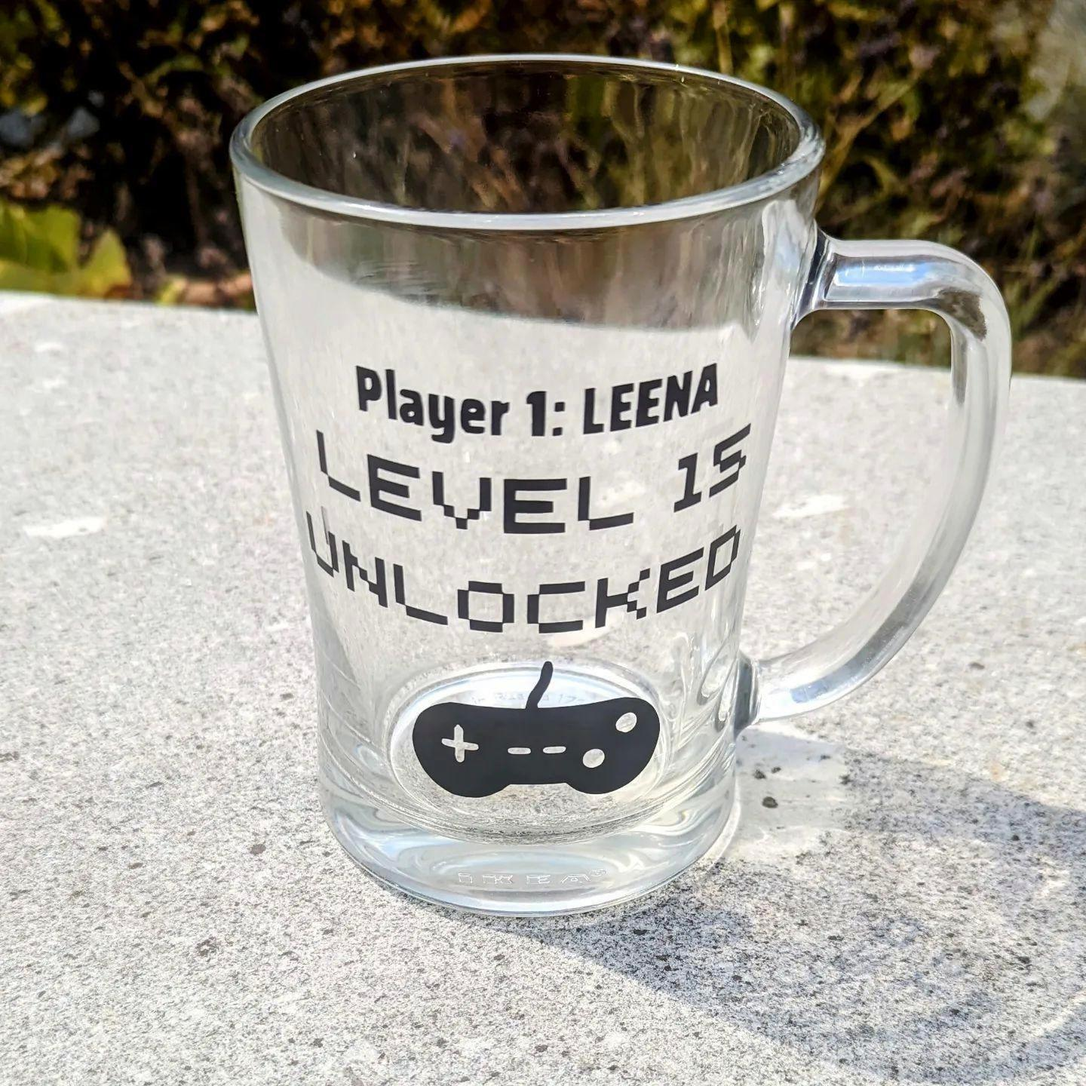glass-mug: (212, 43, 1020, 933)
